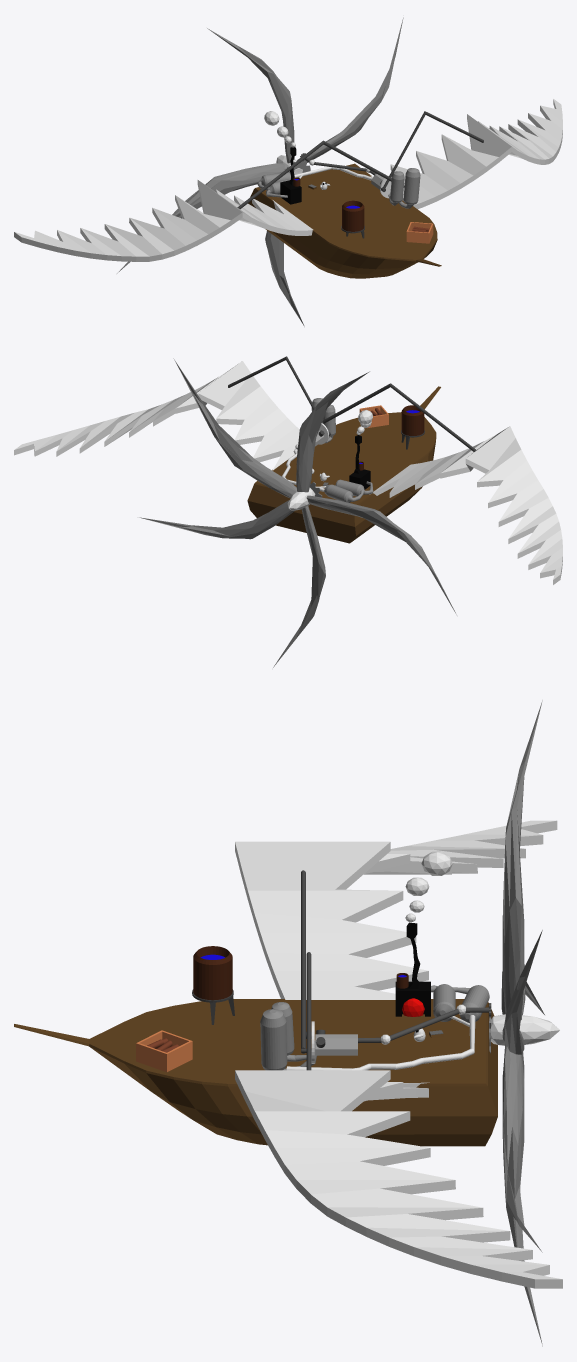
File: platform_v2.glb
3 renders of one model, top to bottom at view 1: azimuth 30°, elevation 25°; view 2: azimuth 150°, elevation 25°; view 3: azimuth 270°, elevation 25°, orthographic. The views are drawn at different scales.
Parts seen in each view (by area): view 1: Cube, Cube.001, Cube.002, Icosphere.006, Icosphere.005, Icosphere.004, Icosphere.007, Cylinder.002, Cylinder.014, Cylinder.013, Cube.003, Cylinder.005 (+2 smaller); view 2: Cube, Cube.001, Cube.002, Icosphere.004, Icosphere.005, Icosphere.006, Icosphere.008, Icosphere.007, Cylinder.002, Cylinder.014, Cube.003, Cylinder.005 (+1 smaller); view 3: Cube, Cube.002, Cube.001, Icosphere.005, Icosphere.008, Cylinder.014, Cylinder.013, Cube.007, Icosphere.004, Cube.003, Icosphere, Cylinder.026 (+2 smaller).
Part boxes in pixels (left/top/right/bottom): Cube: left=248, top=163, right=441, bottom=278; Cube.001: left=14, top=180, right=313, bottom=261; Cube.002: left=370, top=99, right=562, bottom=209; Icosphere.006: left=117, top=163, right=284, bottom=273; Icosphere.005: left=207, top=28, right=294, bottom=163; Icosphere.004: left=297, top=17, right=403, bottom=162; Icosphere.007: left=265, top=231, right=304, bottom=326; Cylinder.002: left=237, top=140, right=404, bottom=209; Cylinder.014: left=342, top=200, right=364, bottom=231; Cylinder.013: left=399, top=168, right=420, bottom=208; Cube.003: left=280, top=147, right=301, bottom=204; Cylinder.005: left=381, top=111, right=483, bottom=191; Cube: left=247, top=386, right=440, bottom=543; Cube.001: left=369, top=426, right=562, bottom=584; Cube.002: left=14, top=361, right=299, bottom=470; Icosphere.004: left=173, top=358, right=296, bottom=498; Icosphere.005: left=296, top=371, right=369, bottom=492; Icosphere.006: left=306, top=495, right=456, bottom=614; Icosphere.008: left=139, top=500, right=294, bottom=539; Icosphere.007: left=273, top=505, right=325, bottom=667; Cylinder.002: left=322, top=383, right=476, bottom=451; Cylinder.014: left=401, top=405, right=424, bottom=435; Cube.003: left=349, top=435, right=370, bottom=489; Cylinder.005: left=228, top=356, right=330, bottom=435; Cube: left=14, top=999, right=497, bottom=1146; Cube.002: left=235, top=1070, right=562, bottom=1288; Cube.001: left=235, top=820, right=557, bottom=999; Icosphere.005: left=502, top=700, right=542, bottom=1020; Icosphere.008: left=502, top=1043, right=542, bottom=1252; Cylinder.014: left=193, top=946, right=232, bottom=1000; Cylinder.013: left=260, top=1009, right=316, bottom=1070; Cube.007: left=136, top=1030, right=192, bottom=1072; Icosphere.004: left=502, top=930, right=542, bottom=1054; Cube.003: left=395, top=922, right=430, bottom=1016; Icosphere: left=489, top=1014, right=559, bottom=1045; Cylinder.026: left=286, top=1015, right=475, bottom=1070.
Bounding box in the file's own units: 91.66 × 52.65 × 46.37.
